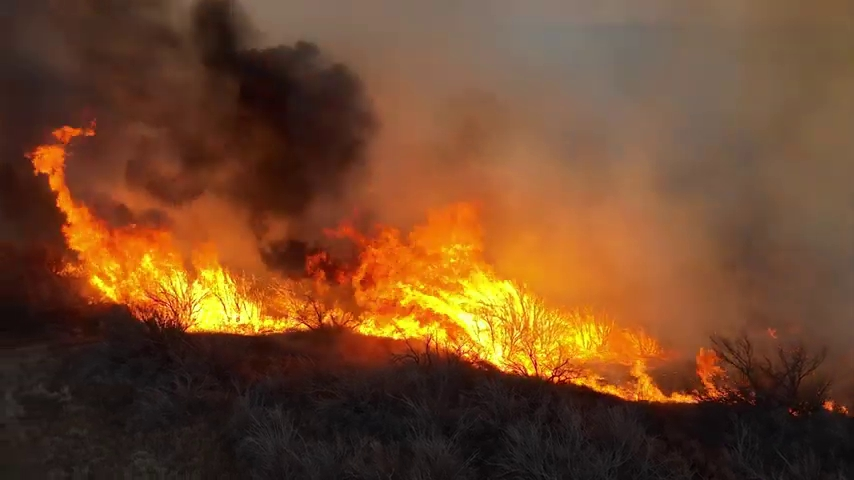forest_fire: (28, 126, 704, 402), (696, 348, 725, 397)
